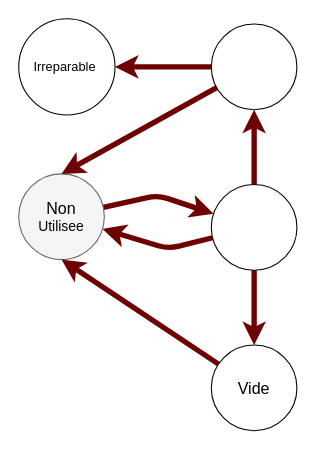
Image size: 316x449. Some labels were removed from this diagram. The centre of each missing label's shape, as x and y in pixels:
"Panne" belongs at [253,66].
"Utilis ee" belongs at [253,227].
